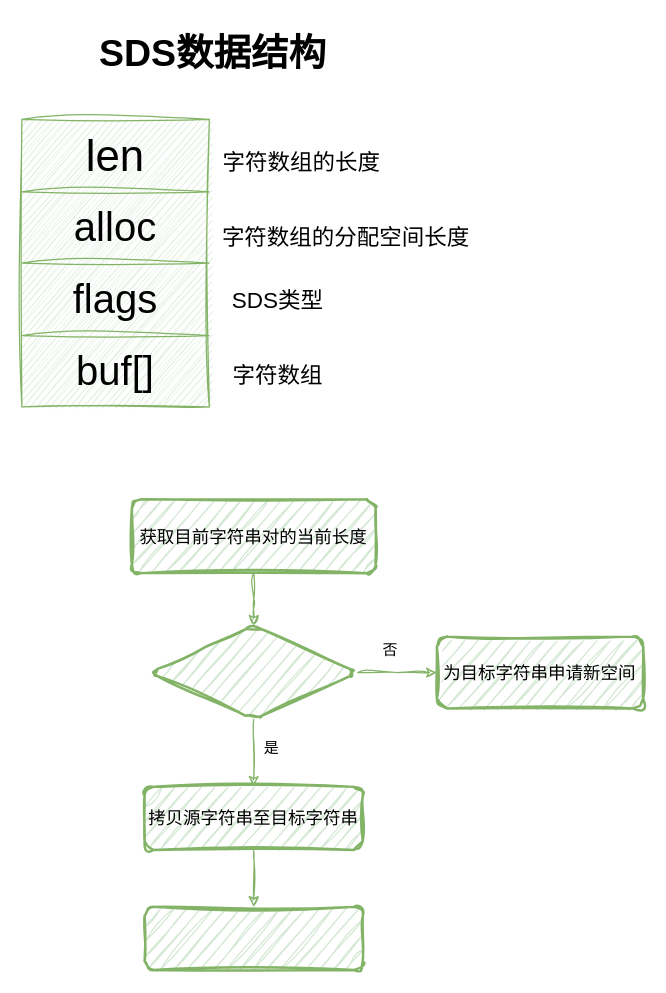
The diagram is 666 pixels wide and 993 high, and some of its shapes have lost their labels. Here are the shapes that lost their labels. From the top down, the centre of each, then its label:
[253,672]: 目标字符串空间 是否足够
[253,938]: 设置目标字符串的最新长度
